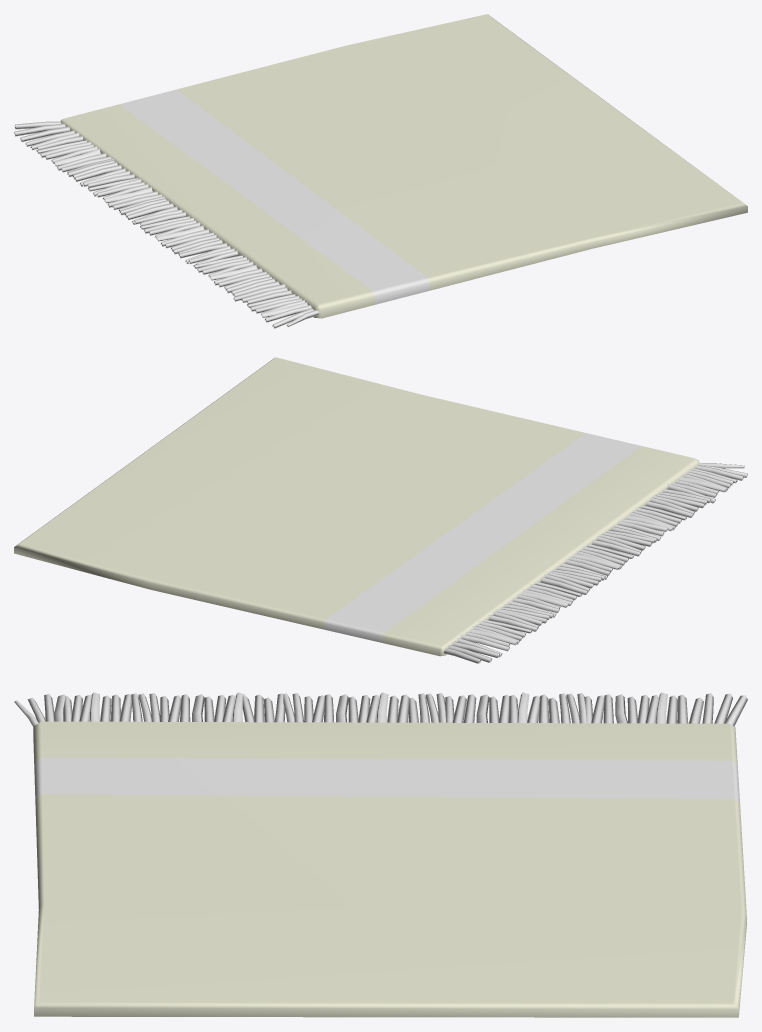
Rendered from Rug Half.fbx.
3 renders of one model, top to bottom at view 1: azimuth 30°, elevation 25°; view 2: azimuth 150°, elevation 25°; view 3: azimuth 270°, elevation 25°, orthographic. The views are drawn at different scales.
Parts seen in each view (by area): view 1: Rug_Half; view 2: Rug_Half; view 3: Rug_Half.
Part boxes in pixels (x1,y1,x2,y2): Rug_Half: [14, 14, 747, 328]; Rug_Half: [14, 357, 747, 663]; Rug_Half: [14, 692, 747, 1017].
Bounding box in the file's own units: 1.69 × 0.0423 × 1.66.
